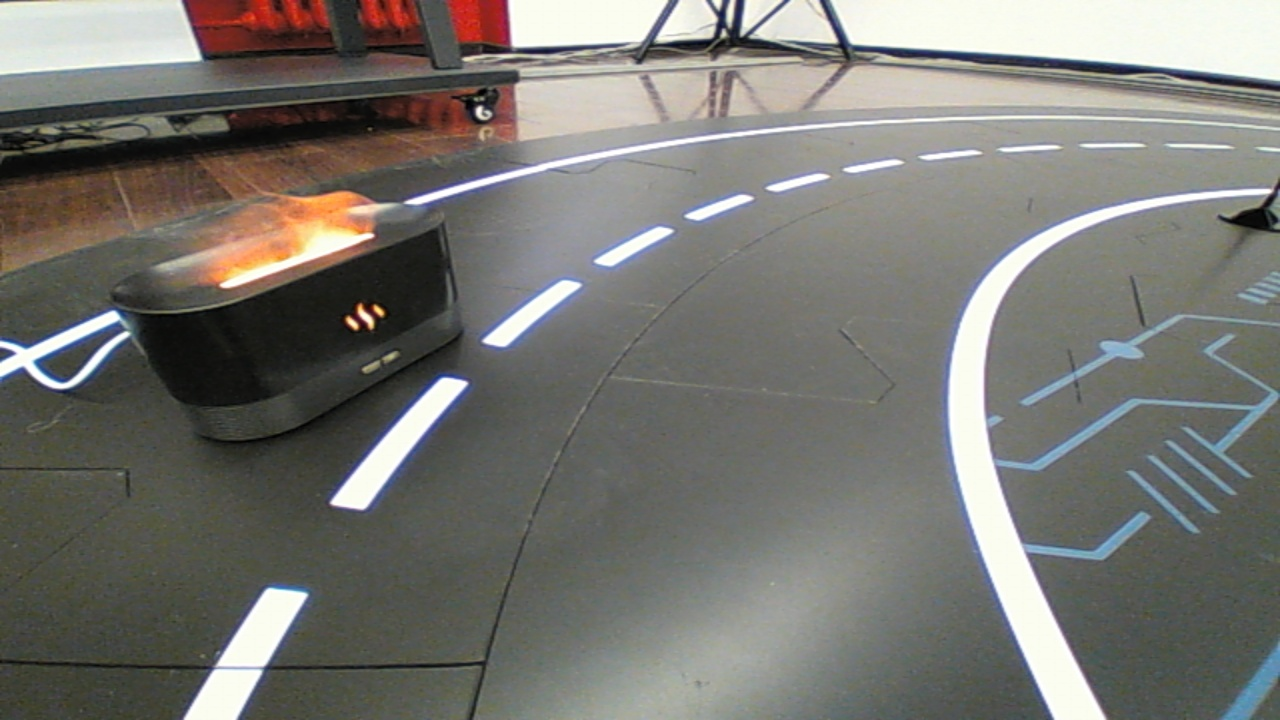Movement prohibition: (95, 186, 489, 458)
